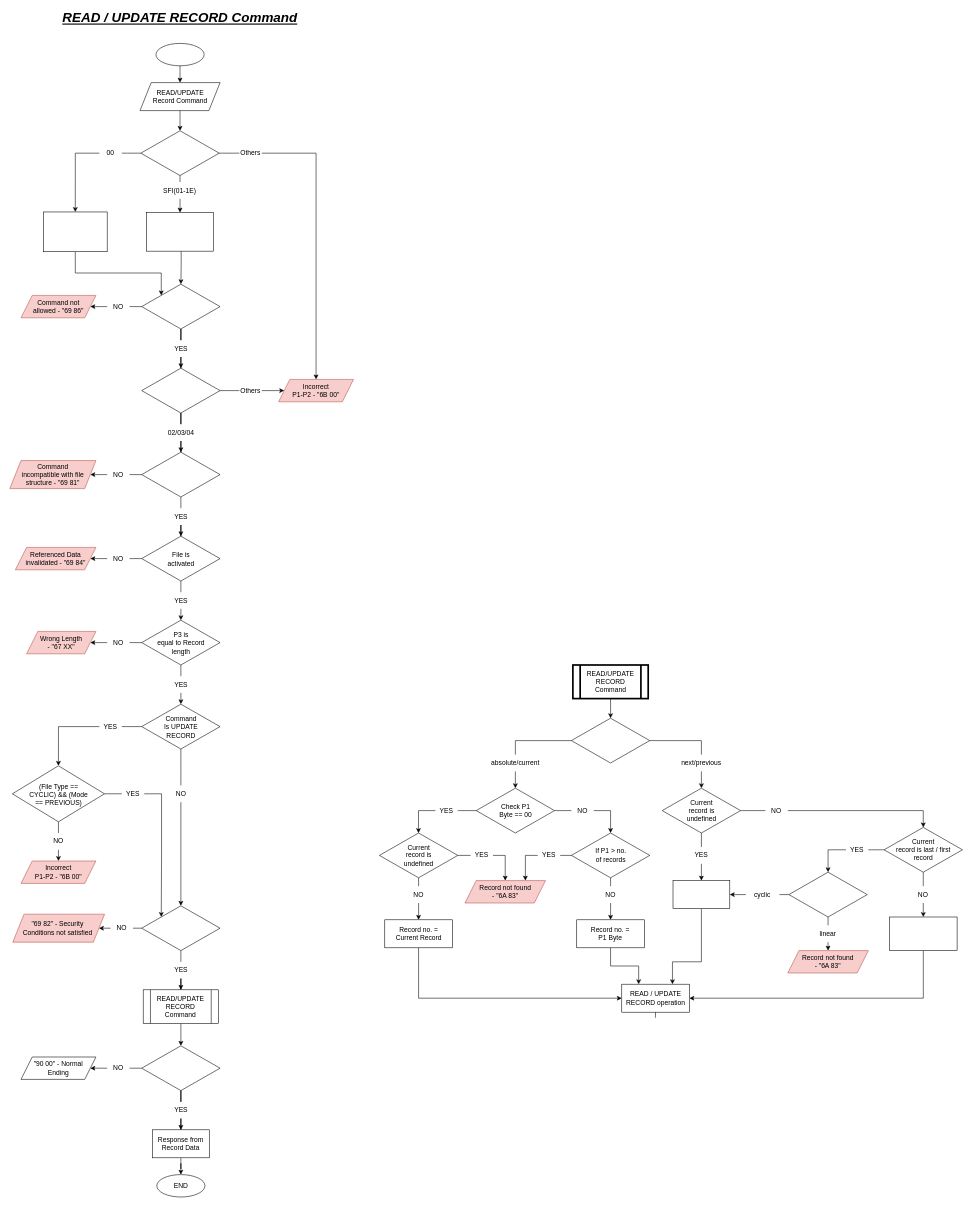
The diagram is 973 pixels wide and 1207 high, and some of its shapes have lost their labels. The centre of each missing label's shape, as x and y in pixels:
"Access Conditions of EF are verified" goes at pixel 180 928.
"Check P2 for EF(b8-b4)" goes at pixel 179 153.
"Check P2 for mode(b3-b1)" goes at pixel 180 390.
"EF is selected" goes at pixel 180 306.
"File Type" goes at pixel 827 894.
"File type is linear fixed / cyclic" goes at pixel 180 474.
"If Command is READ RECORD" goes at pixel 180 1068.
"Mode to READ / UPDATE Record" goes at pixel 610 740.
"Select EF by SFI" goes at pixel 180 231.
"Set Currently Selected EF" goes at pixel 75 231.
"set Record no. = (current record + 1) / (current record - 1)" goes at pixel 923 933.
"set Record no. = First / Last Record" goes at pixel 701 894.
"START" goes at pixel 179 54.
